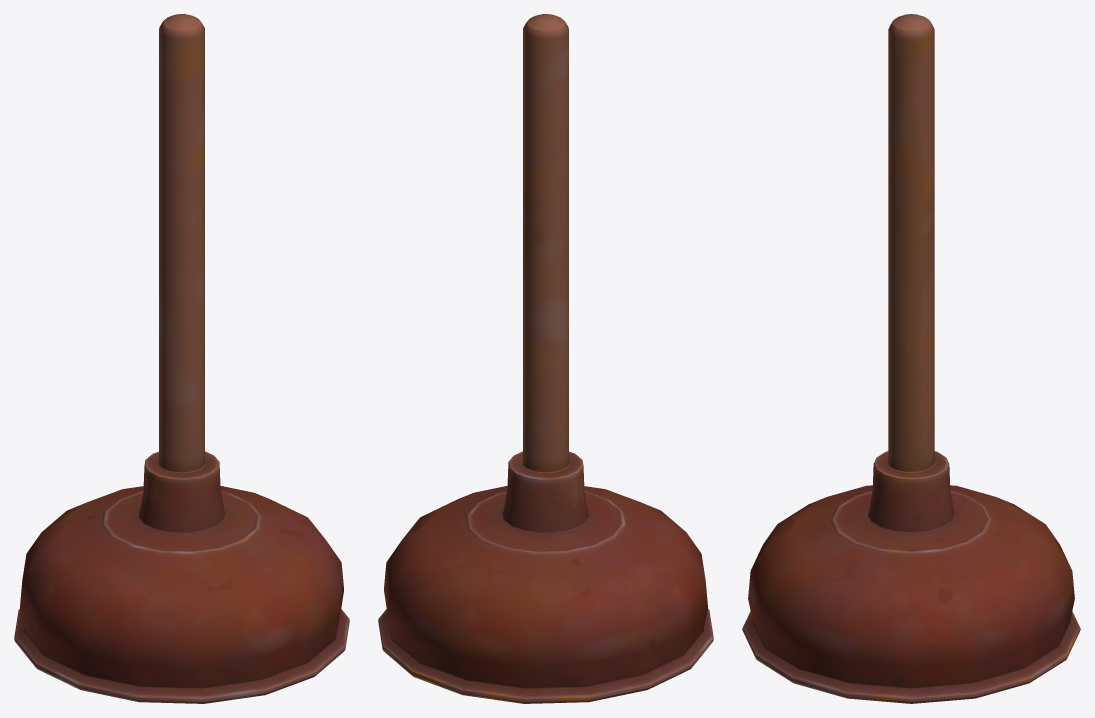
File: plunger.fbx
3 renders of one model, left to right at view 1: azimuth 30°, elevation 25°; view 2: azimuth 150°, elevation 25°; view 3: azimuth 270°, elevation 25°, orthographic.
Visible parts, largest first — view 1: plunger_01_lod0; view 2: plunger_01_lod0; view 3: plunger_01_lod0.
Boxes of the visible parts, left/top/right/bottom form: plunger_01_lod0: left=14, top=14, right=349, bottom=703; plunger_01_lod0: left=378, top=14, right=713, bottom=703; plunger_01_lod0: left=742, top=14, right=1080, bottom=703.
Size of the model in its own units: 21.06 by 42.36 by 21.06.
